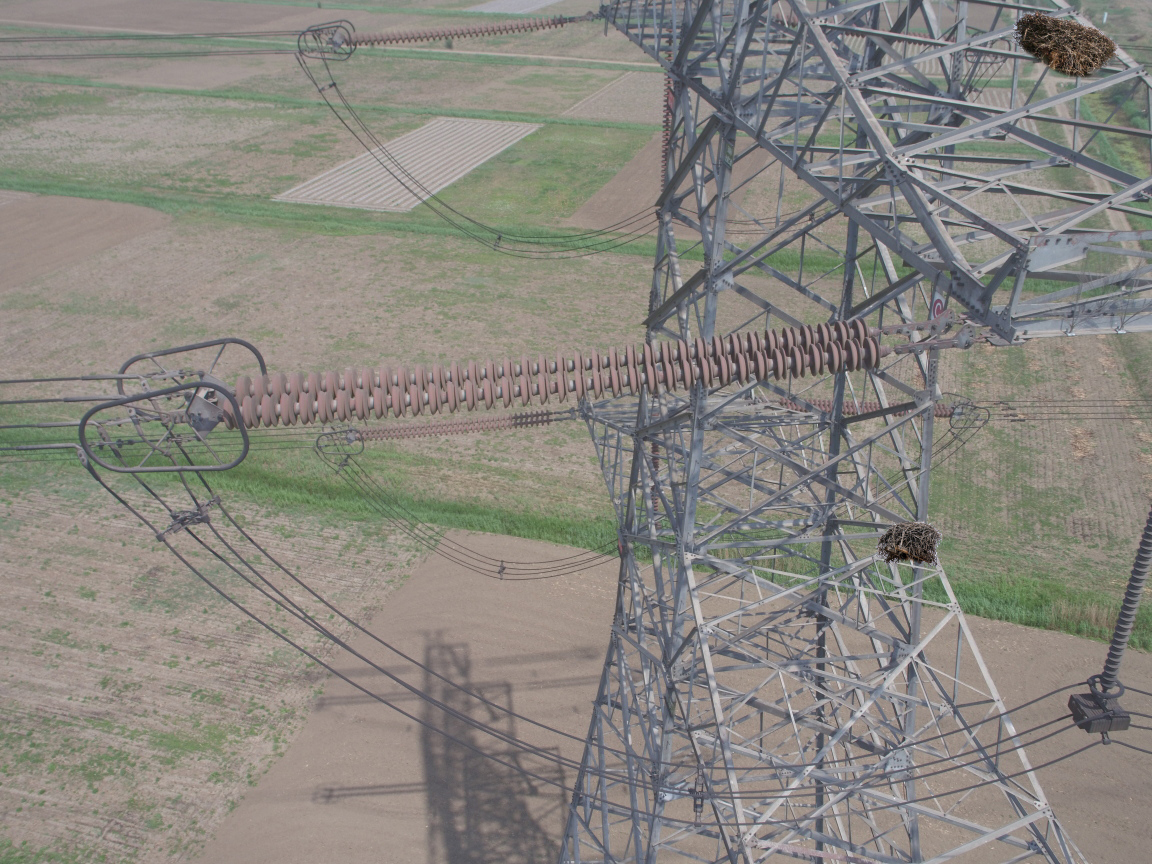nest: (1015, 7, 1118, 82), (875, 519, 943, 568)
